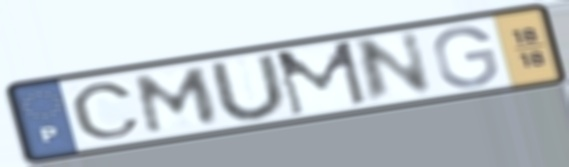C: (67, 81, 145, 142)
G: (429, 24, 502, 90)
M: (271, 38, 372, 119), (133, 64, 223, 137)
N: (352, 28, 437, 108)
U: (204, 51, 293, 122)
